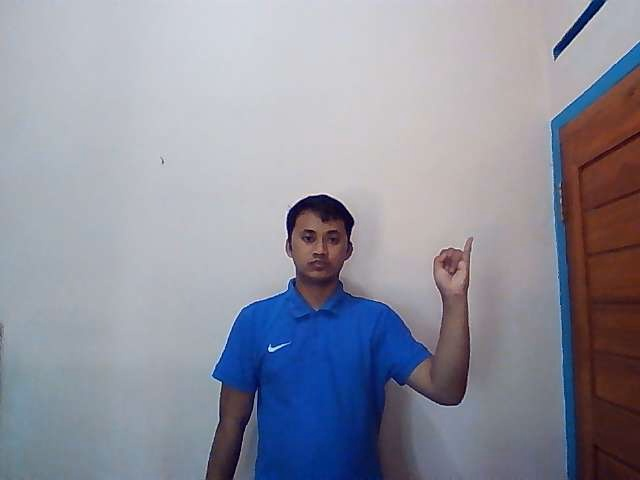I: (432, 237, 474, 297)
